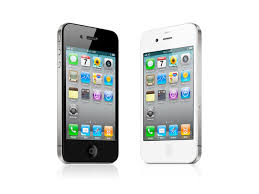iphone: (57, 19, 123, 167), (136, 20, 202, 168)
iphone4: (57, 20, 123, 168), (136, 20, 202, 168)
